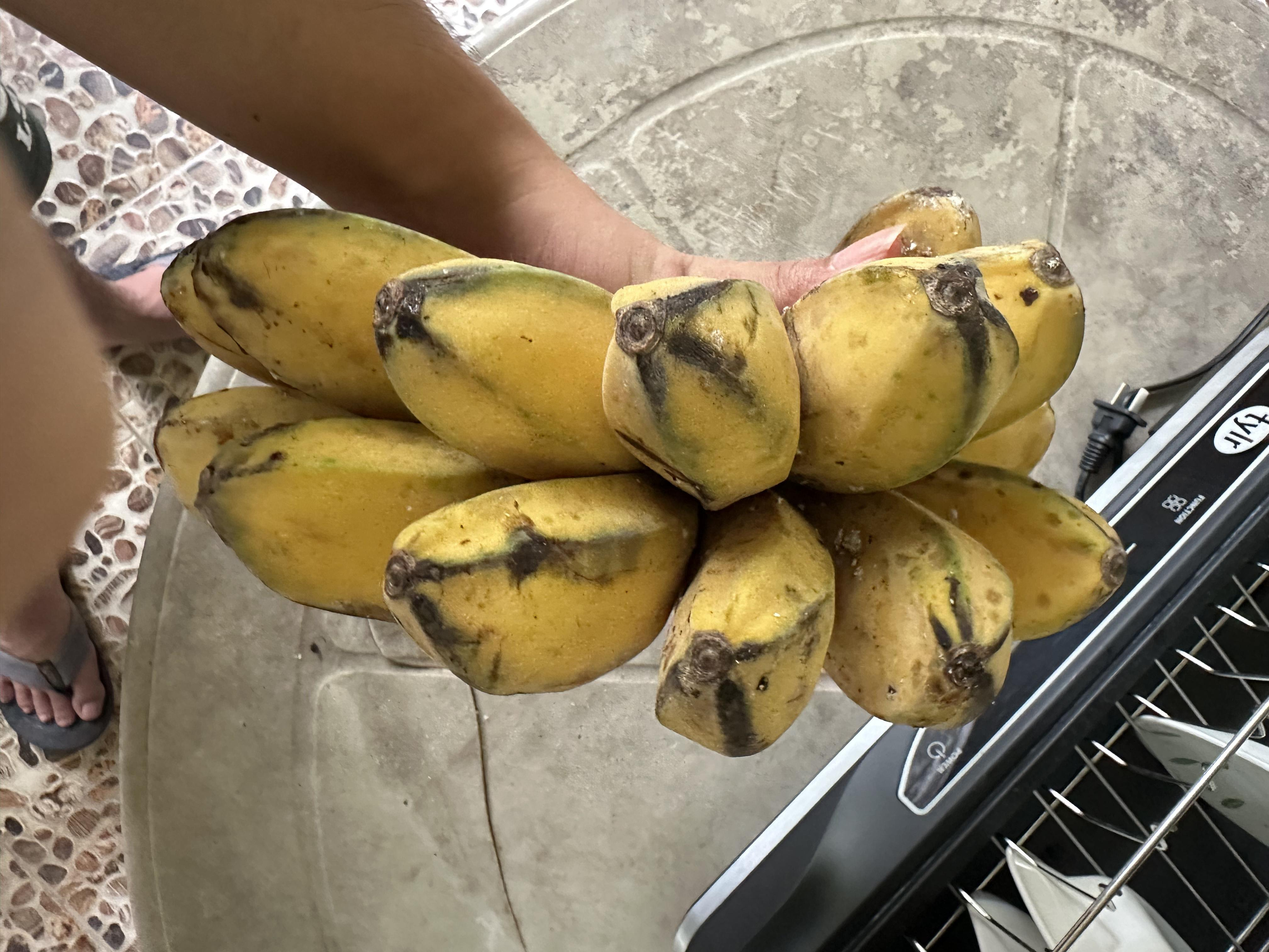ripe: (155, 188, 1126, 756)
